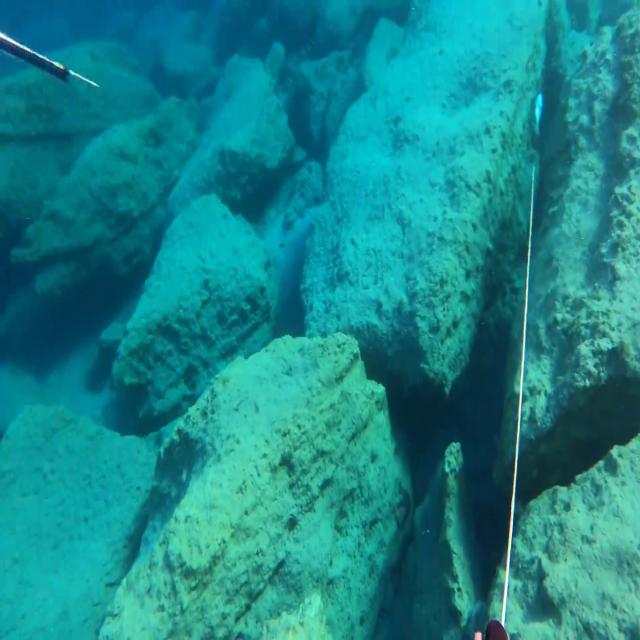Balon Baligi: (533, 91, 543, 137)
